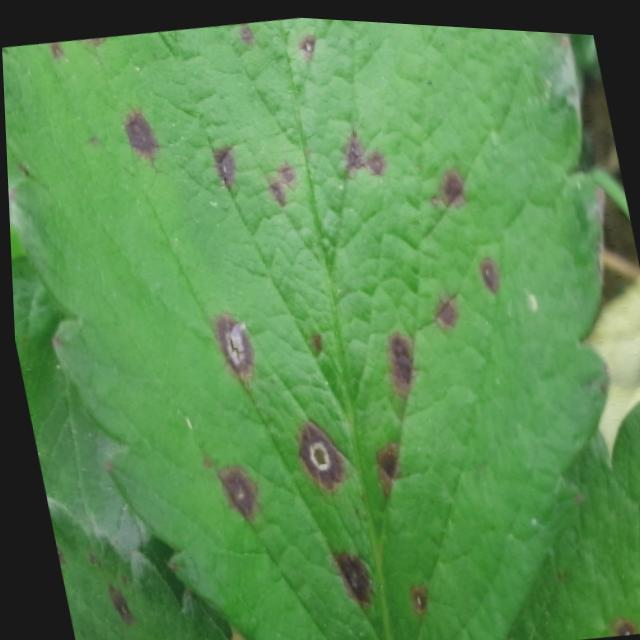Leaf Spot: (2, 14, 606, 640), (497, 389, 640, 640), (41, 496, 226, 640)
